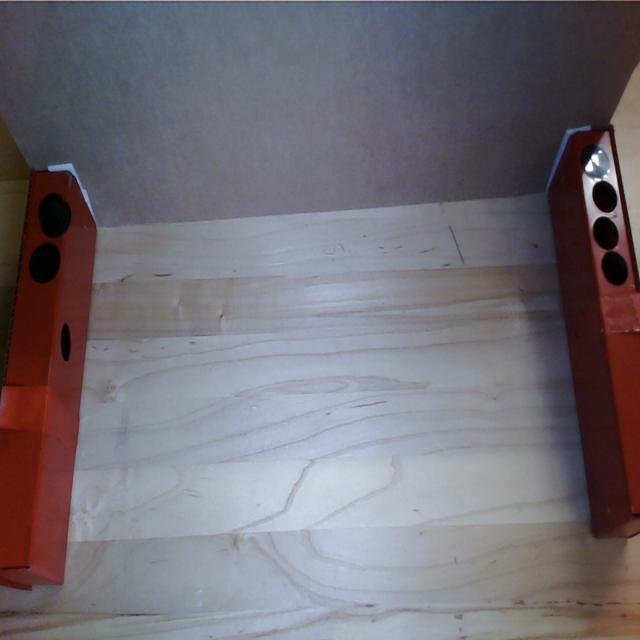Hole: (598, 250, 631, 288), (588, 215, 622, 250), (593, 180, 617, 217), (38, 190, 61, 226), (58, 320, 74, 365)
Sticker: (27, 242, 61, 288), (579, 143, 616, 178), (44, 198, 72, 237)
